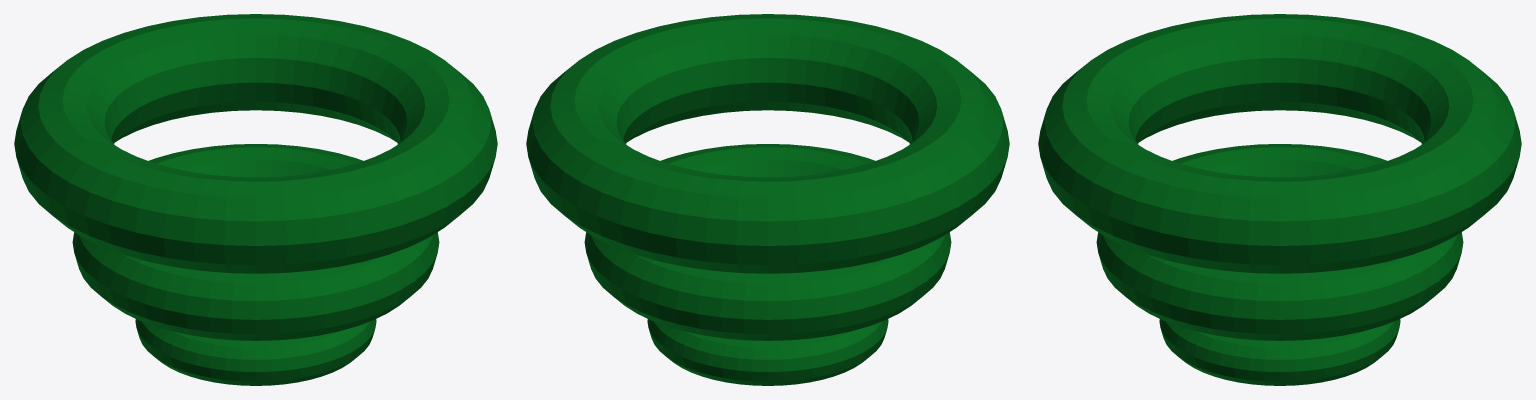
File: ShockwaveModel.fbx
The picture shows the model from 3 angles, left to right: view 1: azimuth 30°, elevation 25°; view 2: azimuth 150°, elevation 25°; view 3: azimuth 270°, elevation 25°; orthographic projection.
Parts seen in each view (by area): view 1: Torus; view 2: Torus; view 3: Torus.
Part boxes in pixels (x1,y1,x2,y2): Torus: [14, 14, 497, 385]; Torus: [526, 14, 1009, 385]; Torus: [1038, 14, 1521, 385].
Bounding box in the file's own units: 501 × 278 × 501.
